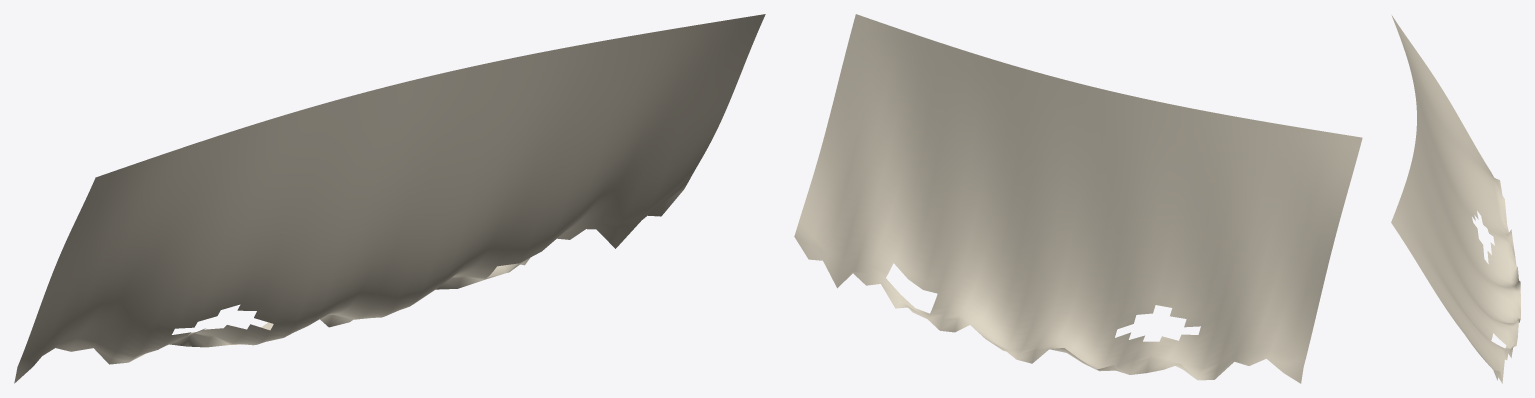
Rendered from hearth_mantle.glb.
3 views of the same model, side by side, from view 1: azimuth 30°, elevation 25°; view 2: azimuth 150°, elevation 25°; view 3: azimuth 270°, elevation 25° (orthographic). The views are drawn at different scales.
Parts seen in each view (by area): view 1: HearthMantle; view 2: HearthMantle; view 3: HearthMantle.
Part boxes in pixels (x1,y1,x2,y2): HearthMantle: (14,14,765,383); HearthMantle: (794,14,1362,383); HearthMantle: (1391,15,1520,383).
Size of the model in its own units: 5.7 by 2.49 by 1.5.
